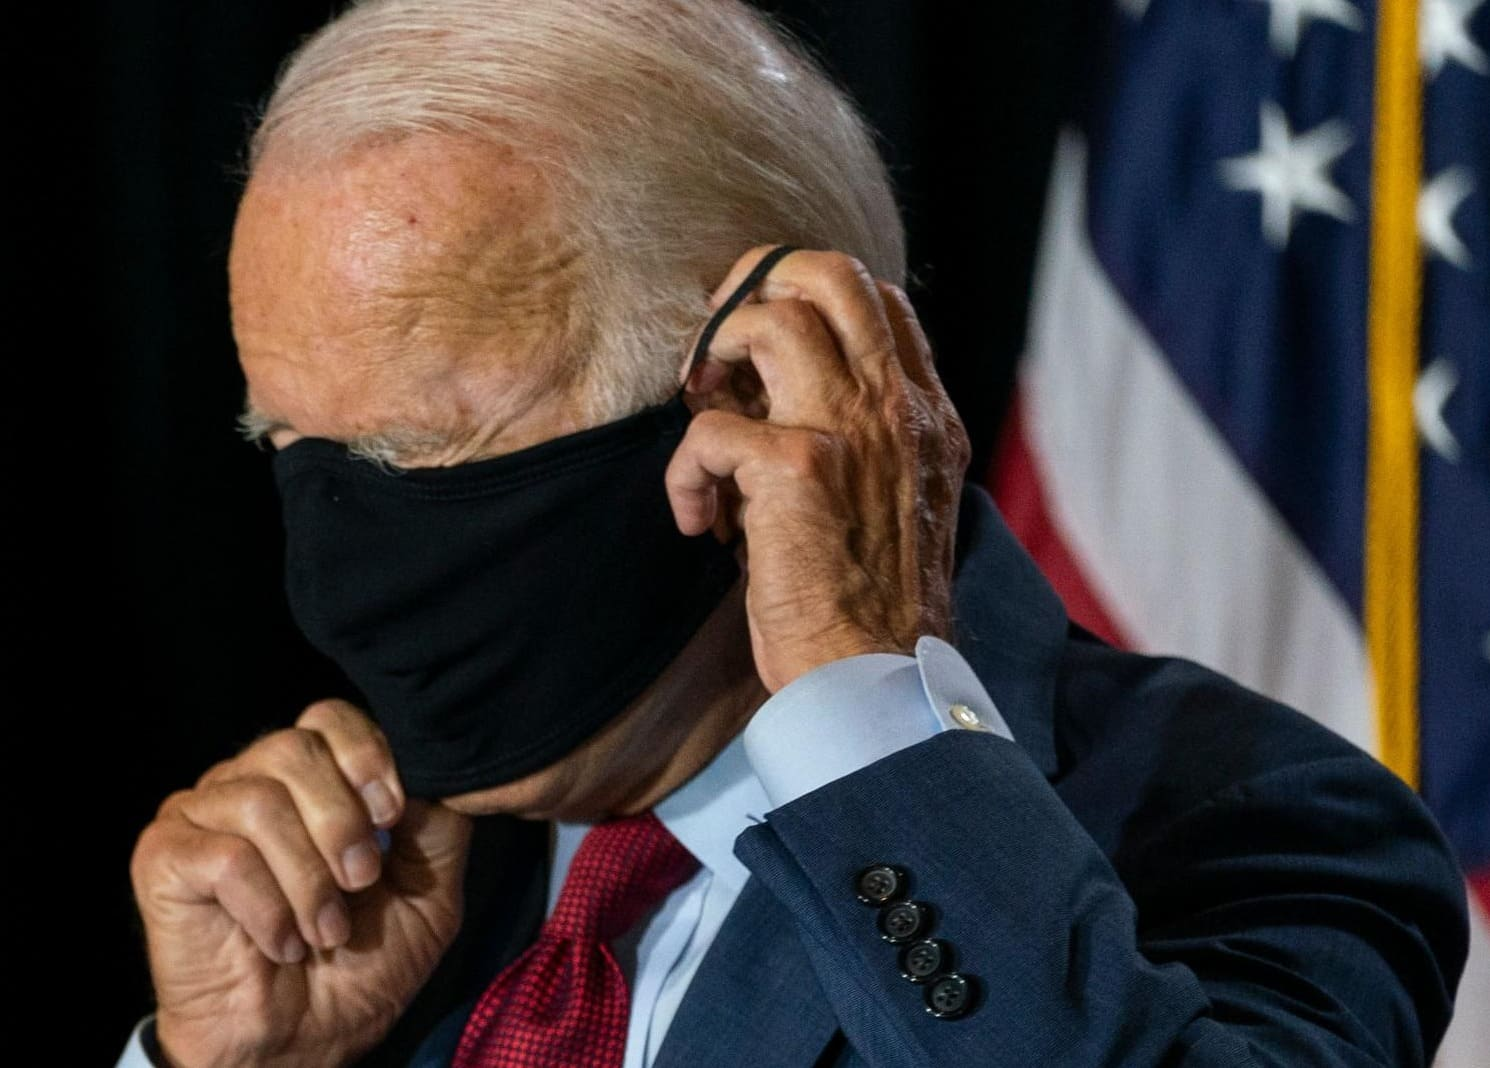with_incorrect_mask: (239, 150, 761, 806)
